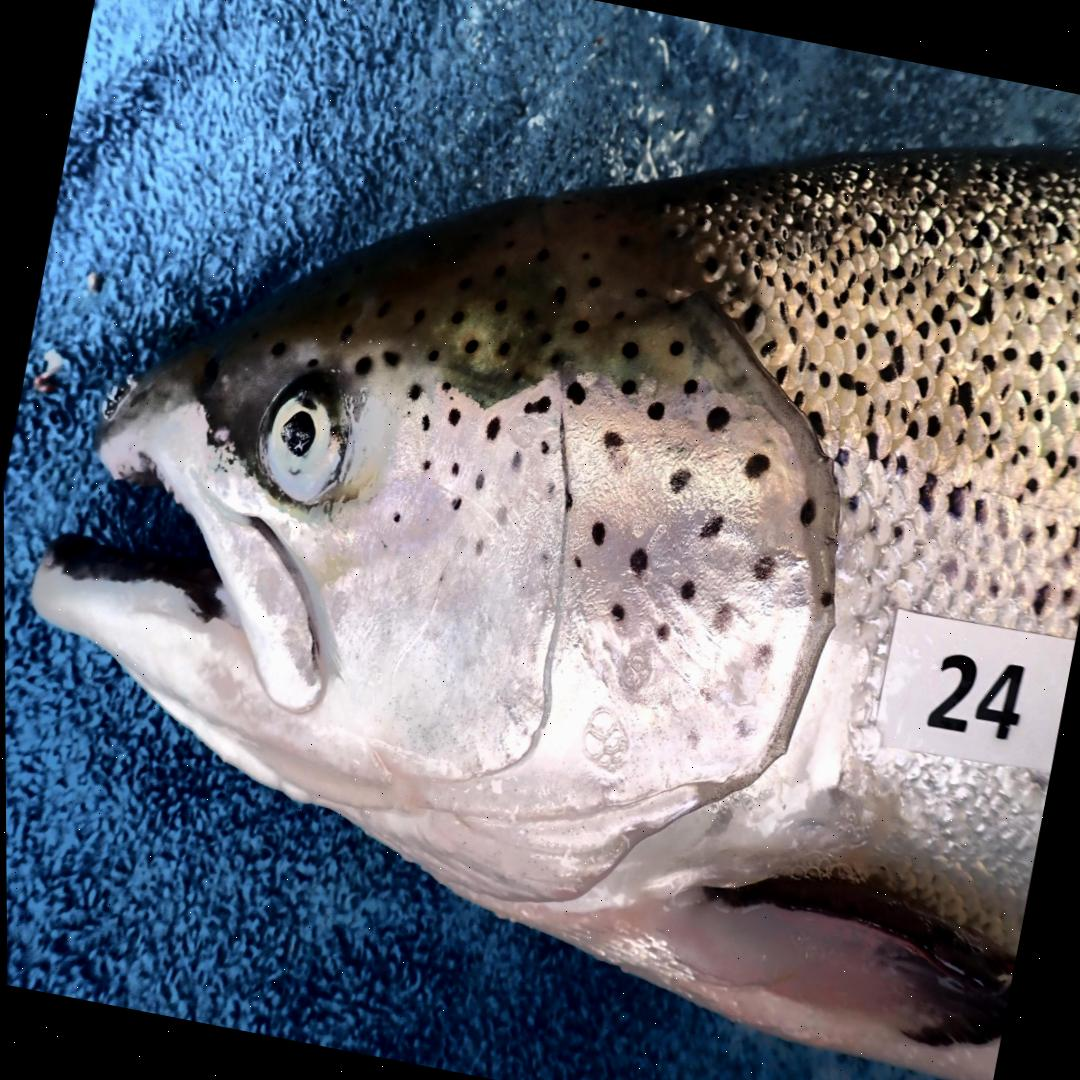spot: (711, 603, 733, 633), (744, 453, 769, 479), (752, 555, 774, 582), (705, 407, 729, 431), (699, 514, 722, 539), (669, 469, 691, 494), (524, 395, 550, 415), (629, 548, 648, 575), (537, 546, 558, 570), (753, 642, 771, 670), (798, 499, 816, 526), (566, 382, 586, 404), (678, 579, 696, 602), (602, 430, 622, 450), (590, 522, 605, 546), (486, 417, 500, 441), (647, 402, 664, 420), (654, 624, 670, 641), (620, 379, 637, 395), (447, 409, 461, 427), (683, 380, 698, 395), (511, 451, 522, 471), (564, 487, 573, 511), (407, 384, 421, 399), (610, 603, 623, 619), (820, 591, 833, 607), (474, 473, 484, 490), (450, 496, 462, 510), (546, 481, 556, 497), (474, 539, 483, 555), (421, 415, 430, 430), (450, 463, 459, 475), (422, 460, 430, 471), (574, 555, 580, 568), (541, 442, 548, 453), (392, 513, 400, 522)
